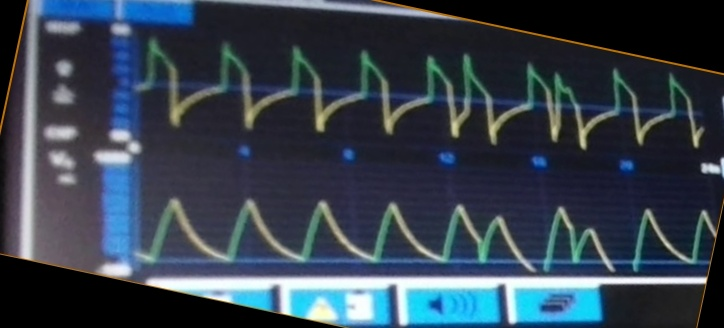Double_Triggering Flow: (179, 46, 703, 151)
Double_Triggering Volume: (170, 189, 708, 274)
